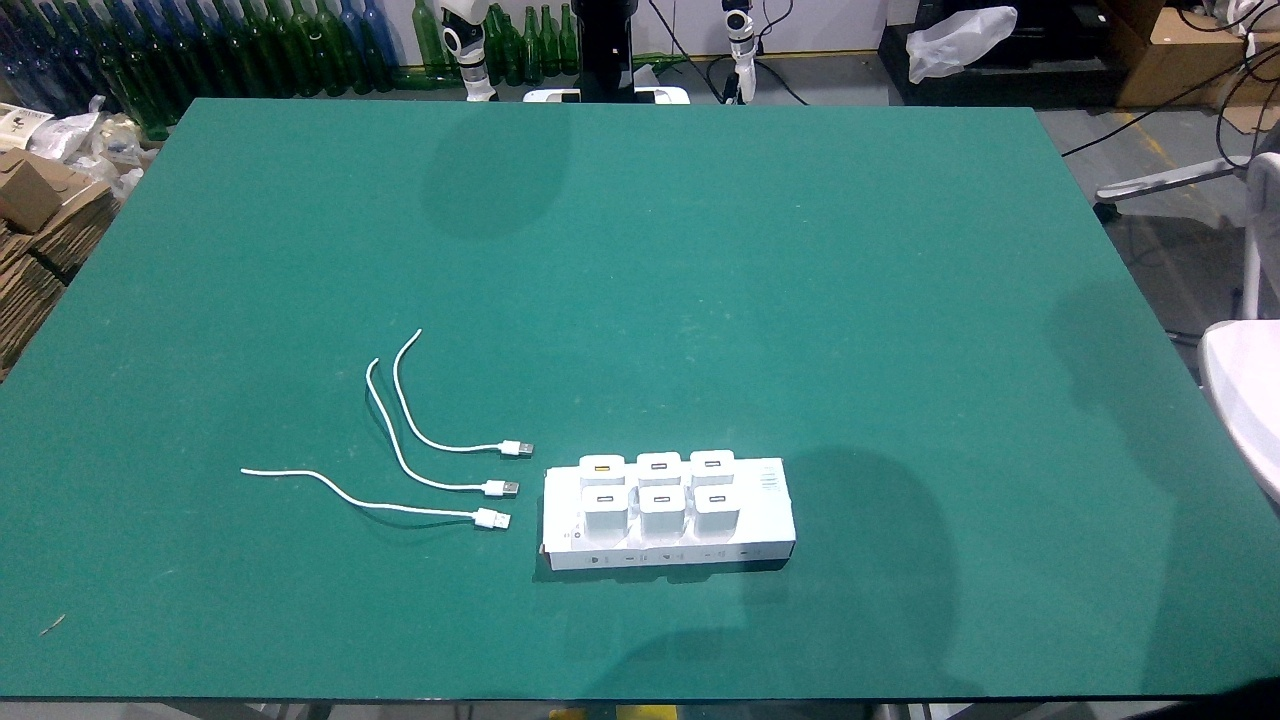usb_a_plug: (457, 503, 515, 531), (463, 478, 524, 500), (482, 436, 540, 459)
